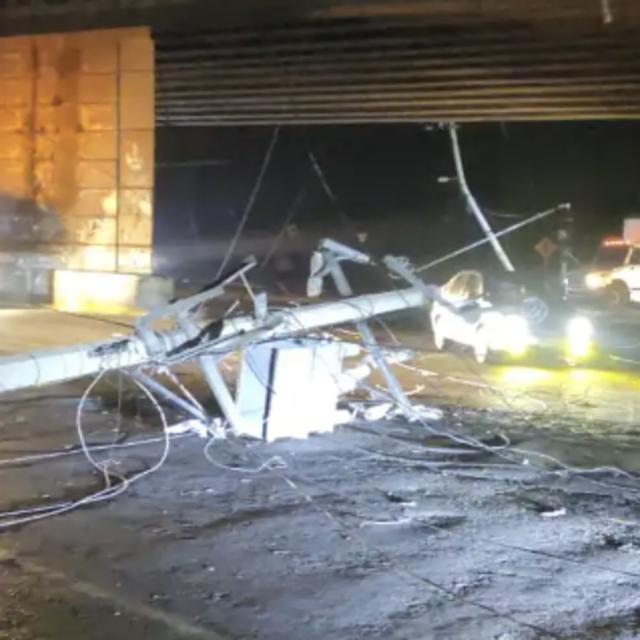Inclined Pole: (0, 244, 443, 434)
